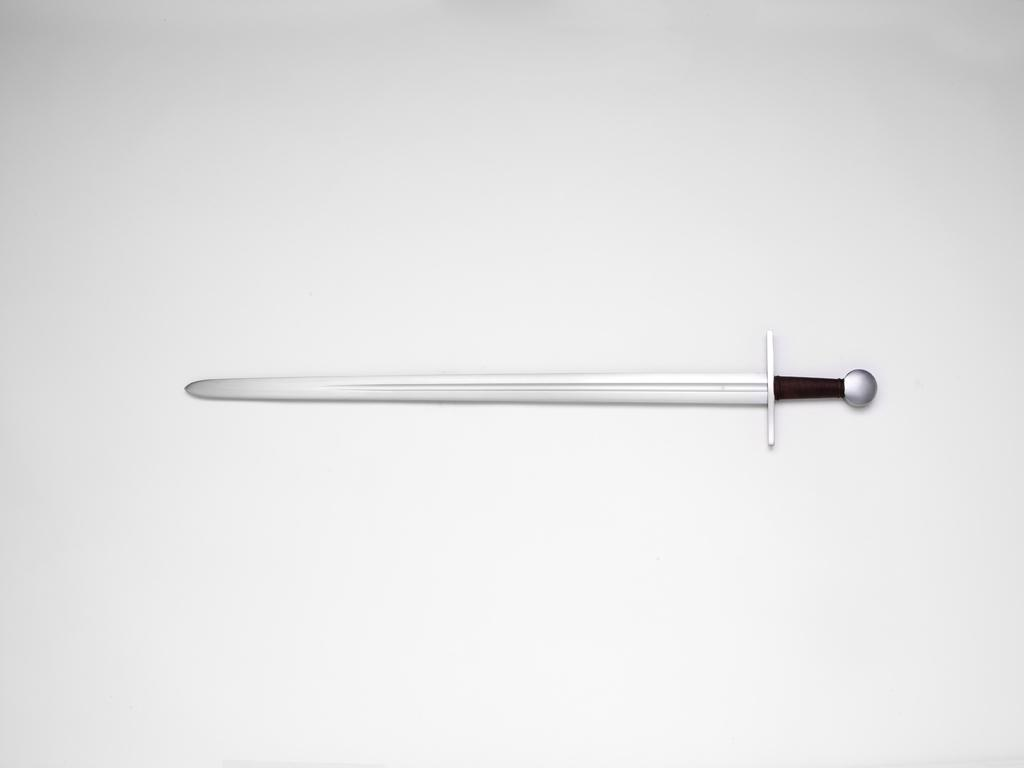Sword: (184, 326, 877, 447)
